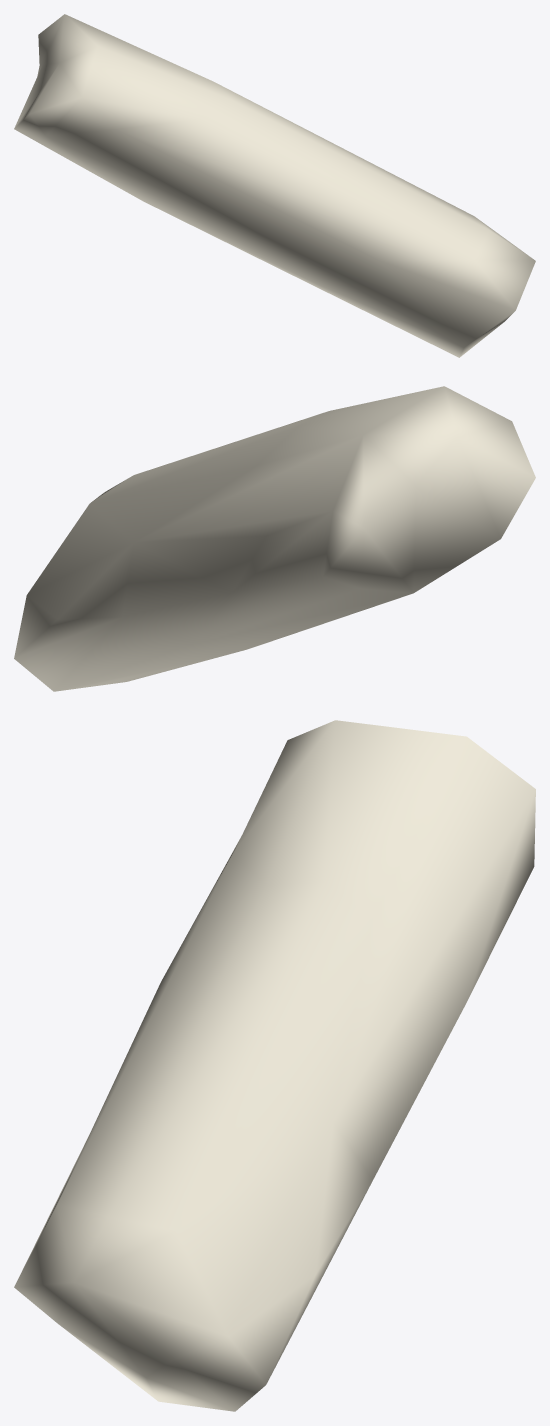
File: fma60892_mm1042.glb
3 renders of one model, top to bottom at view 1: azimuth 30°, elevation 25°; view 2: azimuth 150°, elevation 25°; view 3: azimuth 270°, elevation 25°, orthographic. The views are drawn at different scales.
Visible parts, largest first — view 1: FMA60892_MM1042; view 2: FMA60892_MM1042; view 3: FMA60892_MM1042.
Part boxes in pixels (<box>): FMA60892_MM1042: <box>14,14,535,357</box>; FMA60892_MM1042: <box>14,386,535,691</box>; FMA60892_MM1042: <box>14,720,535,1411</box>.
Size of the model in its own units: 0.00125 by 0.000973 by 0.000966.
